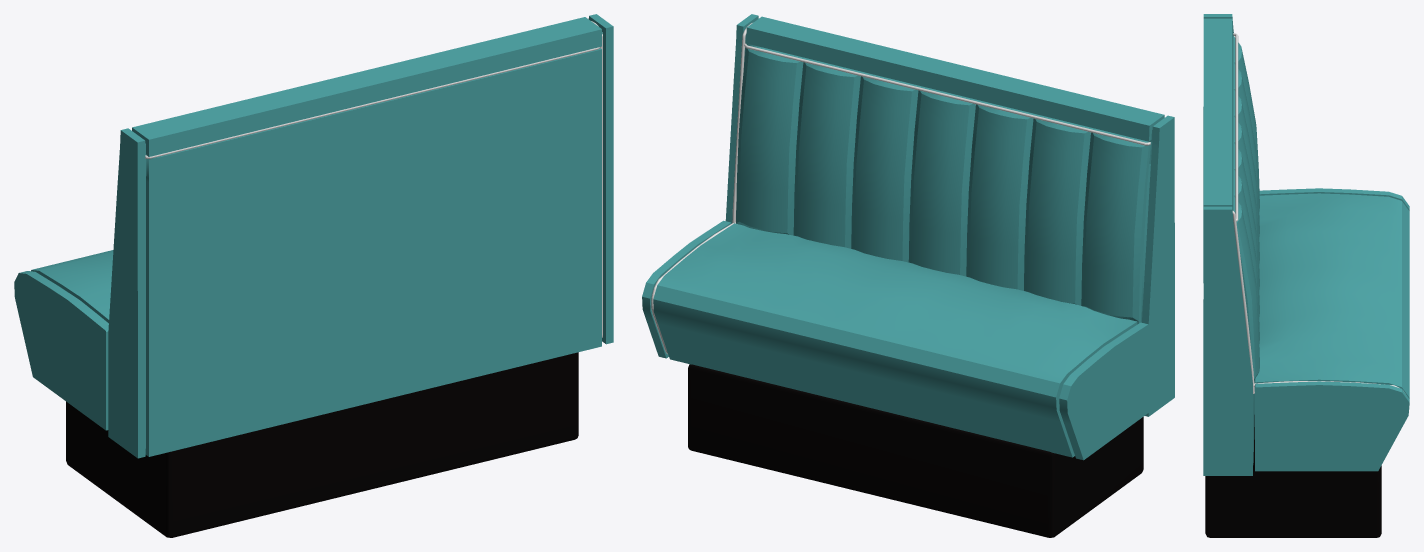
File: retro_sofa_sm.fbx
3 views of the same model, side by side, from view 1: azimuth 30°, elevation 25°; view 2: azimuth 150°, elevation 25°; view 3: azimuth 270°, elevation 25° (orthographic). The views are drawn at different scales.
Visible parts, largest first — view 1: pasted__pasted__pasted__pCube4, pasted__pasted__pasted__pCube5, pasted__pasted__pasted__pCube3, pasted__lien3; view 2: pasted__pasted__pasted__pCube4, pasted__pasted__pasted__pCube3, pasted__pasted__pasted__pCube5, pasted__line4, pasted__line1; view 3: pasted__pasted__pasted__pCube3, pasted__pasted__pasted__pCube4, pasted__pasted__pasted__pCube5, pasted__line4, pasted__line1.
Part boxes in pixels (x1,y1,x2,y2): pasted__pasted__pasted__pCube4: [108, 14, 613, 458]; pasted__pasted__pasted__pCube5: [66, 352, 578, 537]; pasted__pasted__pasted__pCube3: [14, 250, 113, 430]; pasted__lien3: [145, 47, 600, 158]; pasted__pasted__pasted__pCube4: [725, 14, 1174, 416]; pasted__pasted__pasted__pCube3: [642, 220, 1148, 460]; pasted__pasted__pasted__pCube5: [688, 364, 1143, 537]; pasted__line4: [744, 43, 1150, 145]; pasted__line1: [732, 23, 752, 223]; pasted__pasted__pasted__pCube3: [1255, 188, 1409, 471]; pasted__pasted__pasted__pCube4: [1203, 14, 1259, 475]; pasted__pasted__pasted__pCube5: [1205, 415, 1381, 537]; pasted__line4: [1233, 33, 1238, 221]; pasted__line1: [1232, 211, 1254, 393].
Bounding box in the file's own units: 2.11 × 1.72 × 0.9365.
